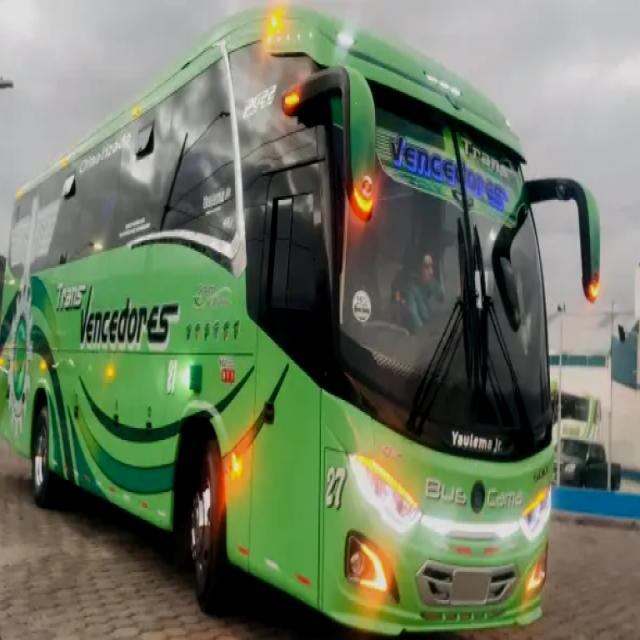BUS: (0, 14, 572, 634)
